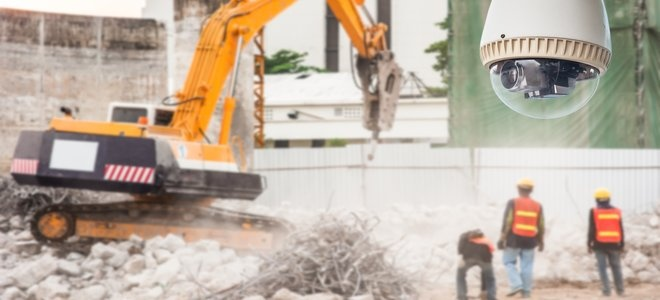yellow: (514, 175, 535, 198), (593, 186, 612, 208)
